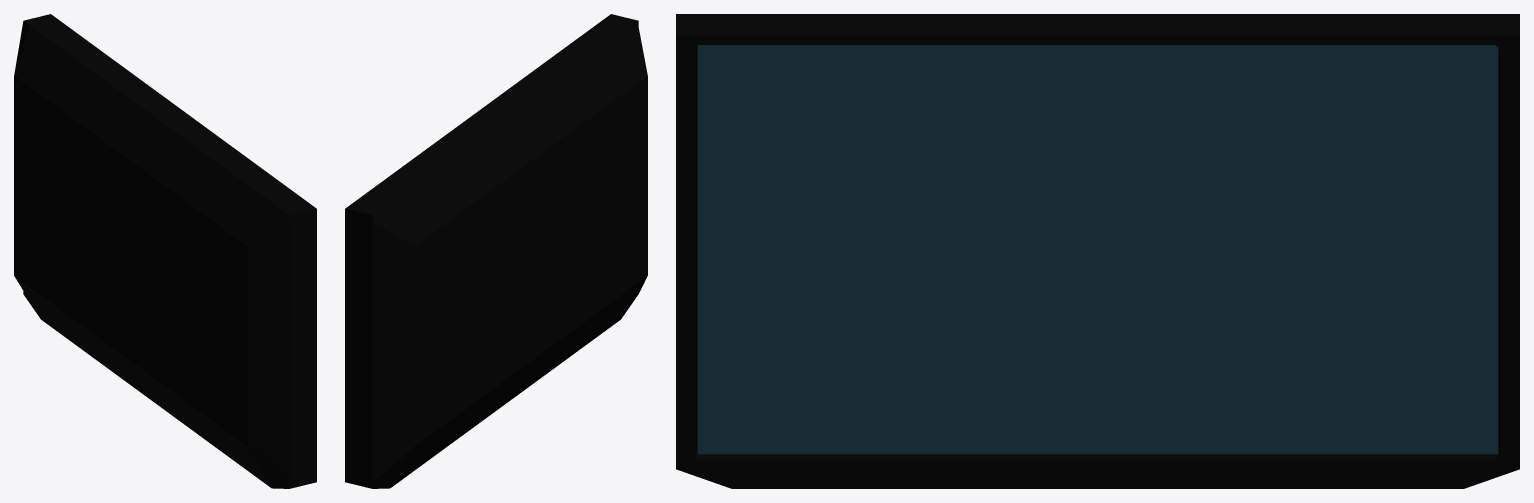
Rendered from TELEVISAO.fbx.
3 views of the same model, side by side, from view 1: azimuth 30°, elevation 25°; view 2: azimuth 150°, elevation 25°; view 3: azimuth 270°, elevation 25° (orthographic). The views are drawn at different scales.
Parts seen in each view (by area): view 1: PLASTICO DA TV; view 2: PLASTICO DA TV; view 3: TELA DA TV, PLASTICO DA TV.
Boxes of the visible parts, <box> form: PLASTICO DA TV: <box>14,14,316,488</box>; PLASTICO DA TV: <box>345,14,647,488</box>; TELA DA TV: <box>697,45,1498,454</box>; PLASTICO DA TV: <box>676,14,1519,488</box>.
Size of the model in its own units: 0.0553 by 0.2846 by 0.4797.
